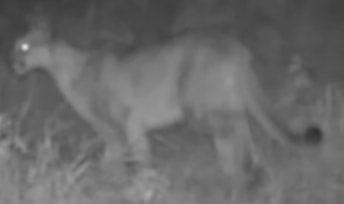Mountain Lion: (12, 10, 328, 200)
